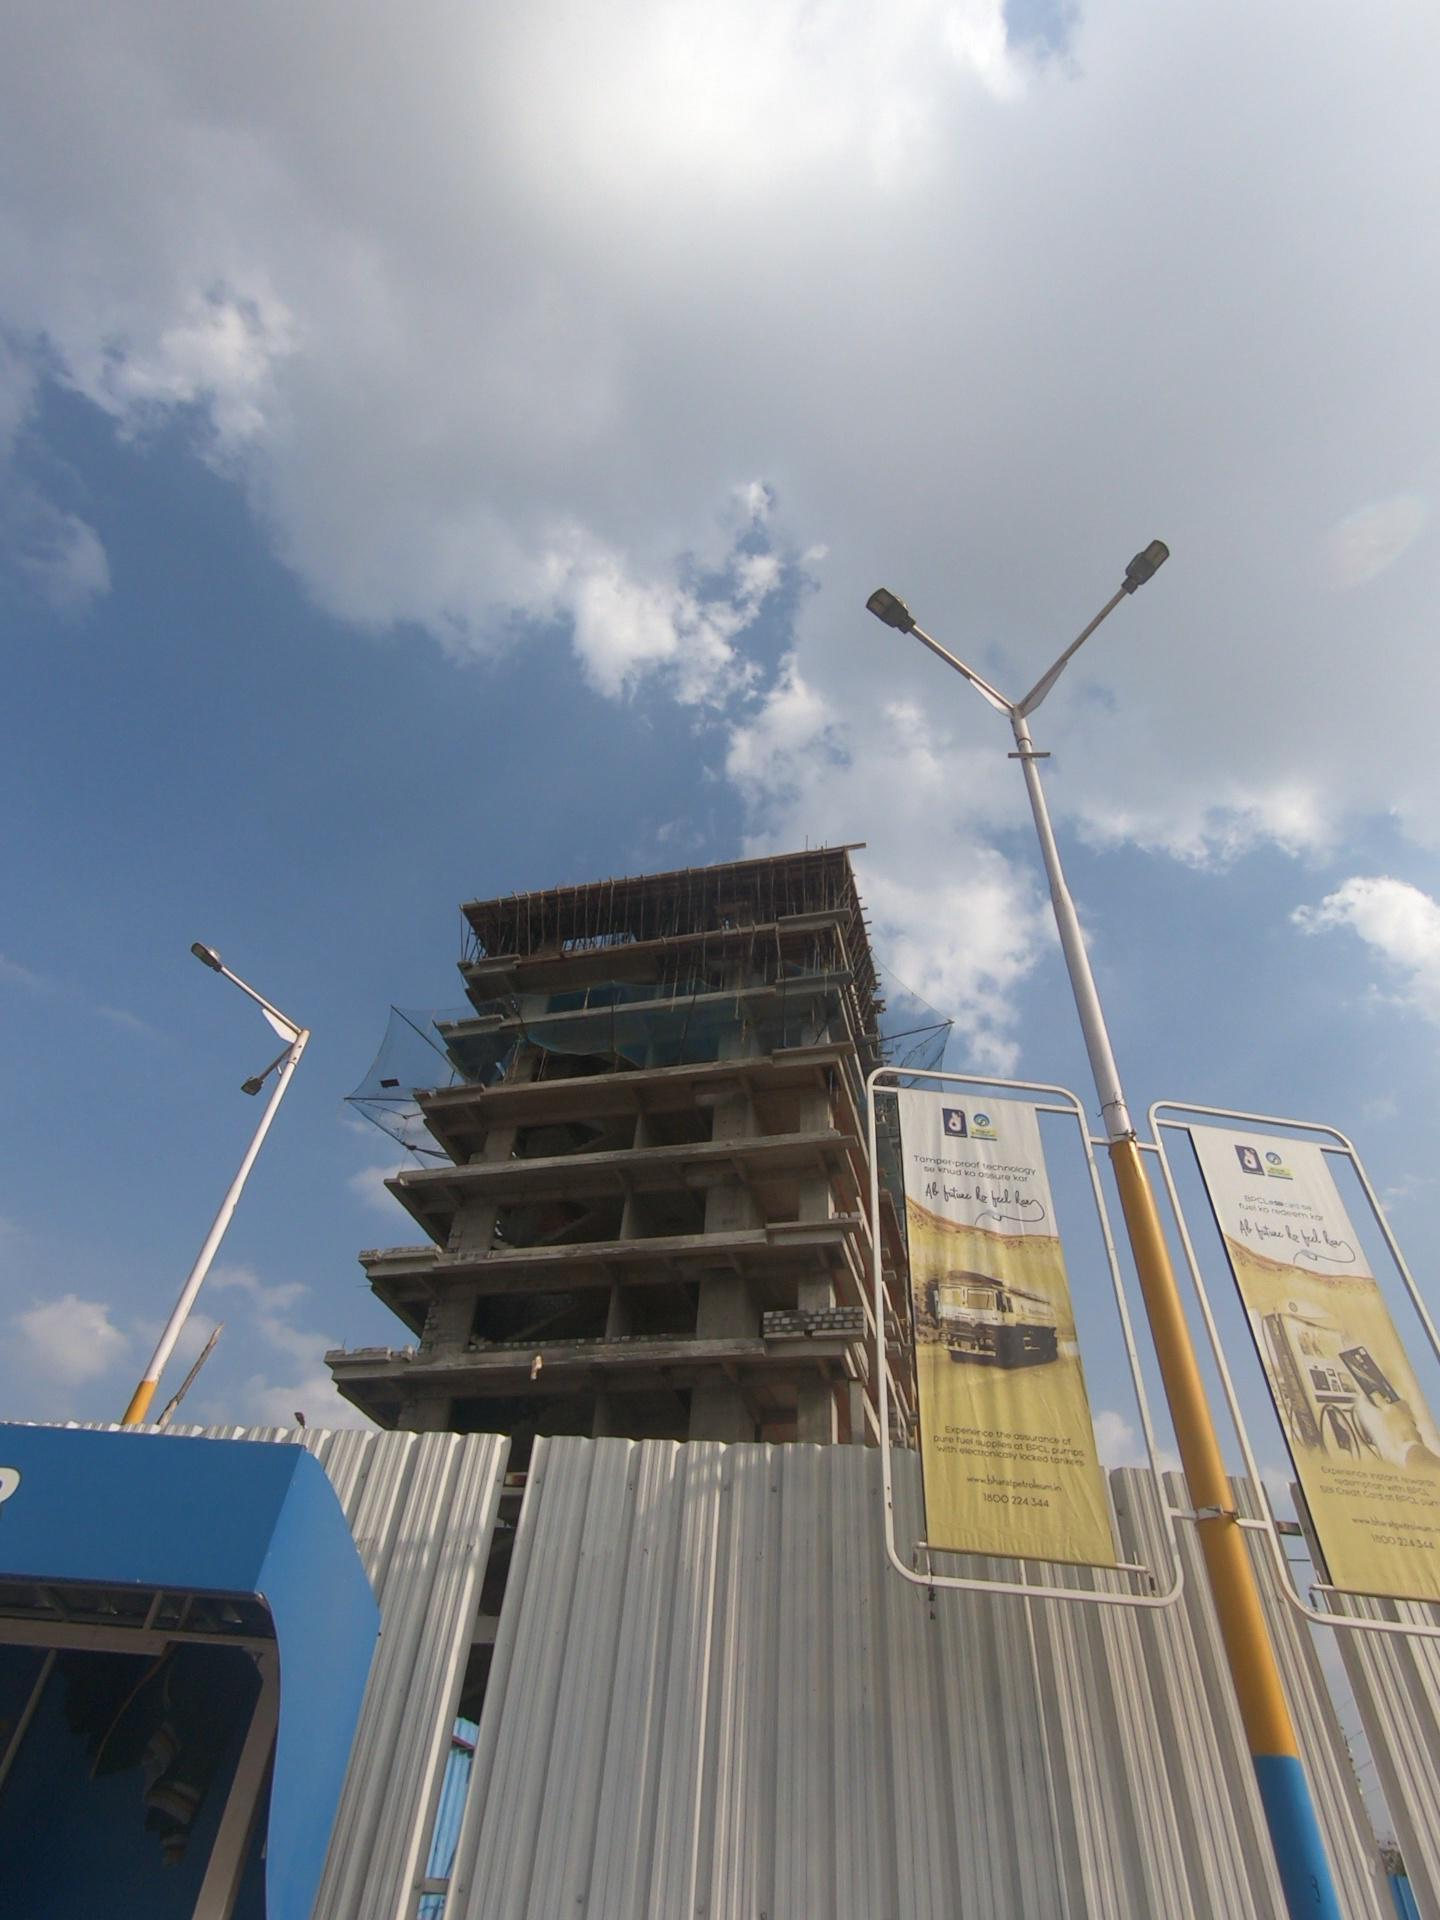off: (850, 472, 1251, 727), (160, 871, 328, 1111)
